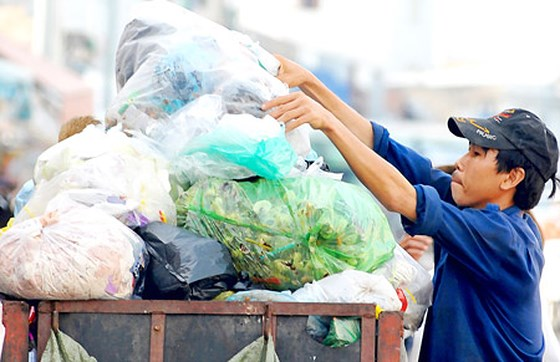plastic bag: (1, 1, 434, 346)
